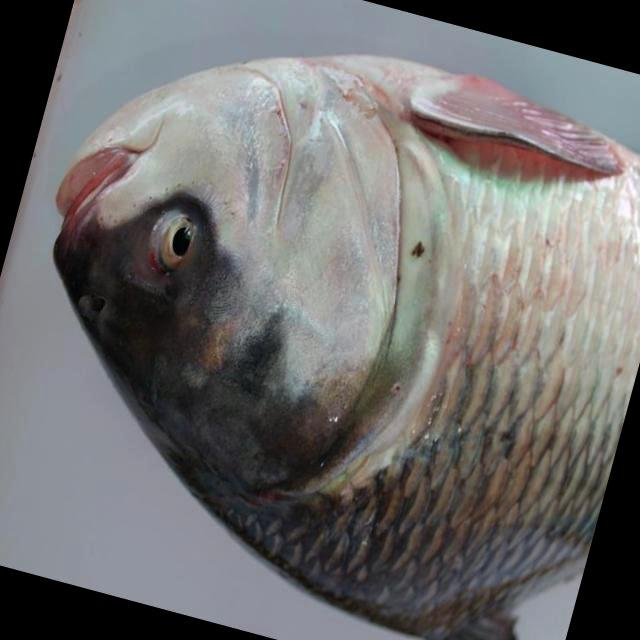Catla: (54, 53, 639, 640)
